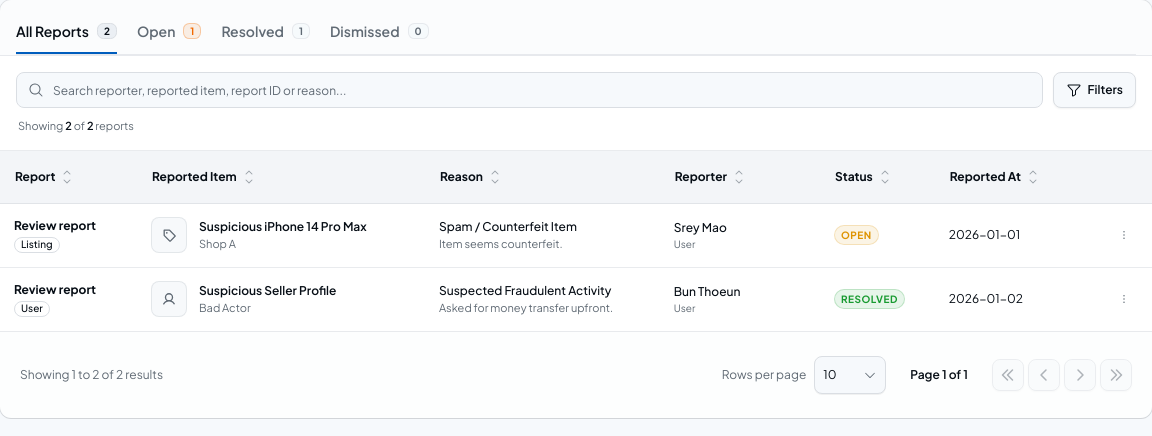
Test: <ReportTable /> › renders report items and filters by open and resolved status tabs
Expected: the link "Suspicious iPhone 14 Pro Max" is shown, [199,219,367,234]
Expected: the link "Suspicious Seller Profile" is shown, [199,283,336,298]
Click the tab "Open 1" at (169, 32), box [137,10,201,54]
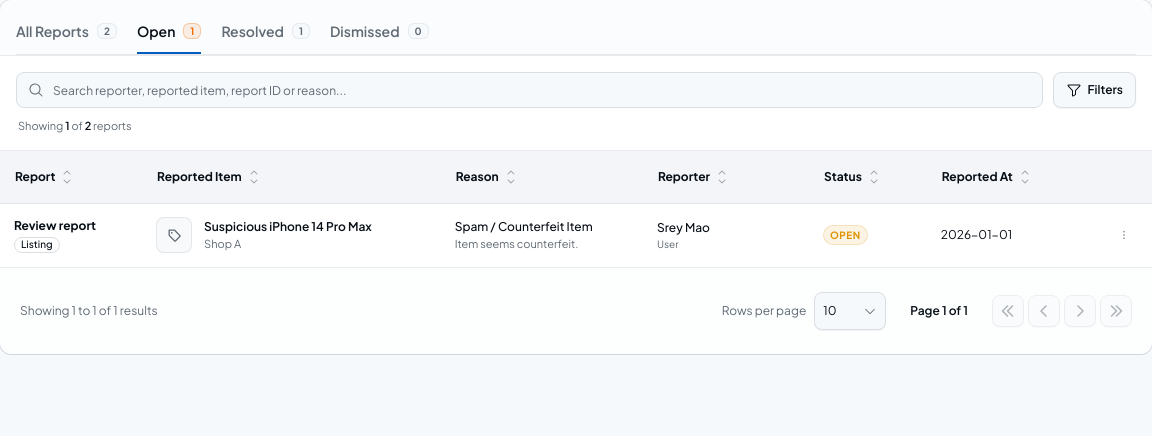
Expected: the link "Suspicious iPhone 14 Pro Max" is shown, [204,219,372,234]
Expected: no links "Suspicious Seller Profile" are shown
Click the tab "Resolved 1" at (266, 32), box [221,10,310,54]
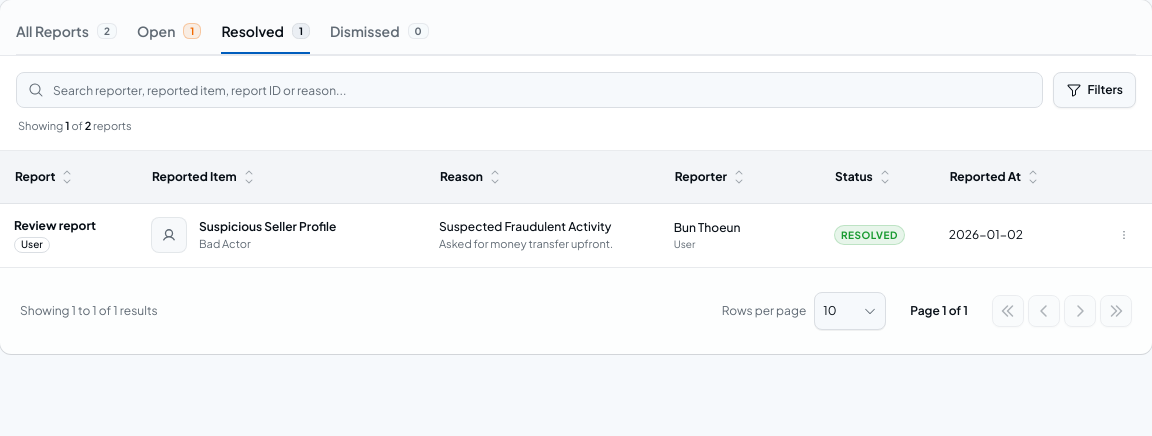
Expected: the link "Suspicious Seller Profile" is shown, [199,219,336,234]
Expected: no links "Suspicious iPhone 14 Pro Max" are shown
